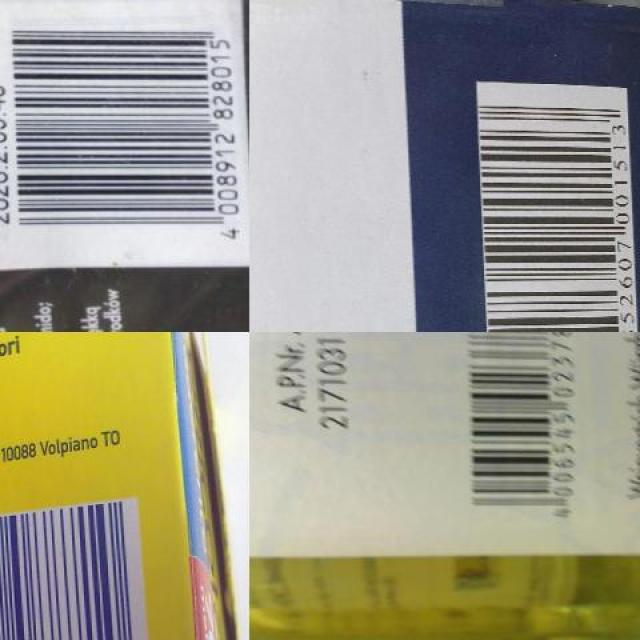Barcode: (0, 0, 249, 268), (473, 85, 635, 332), (443, 332, 588, 524), (0, 493, 159, 640)
